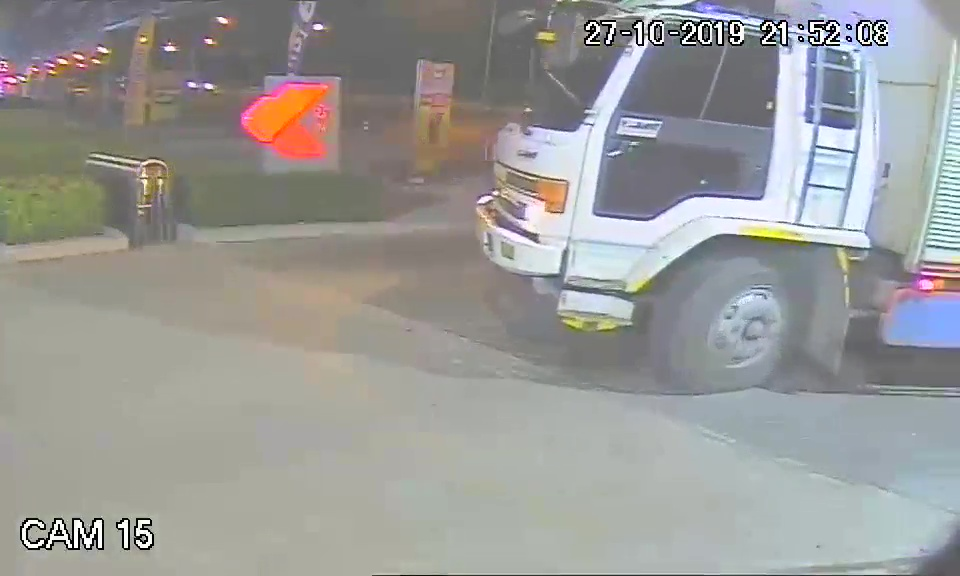truck: (468, 4, 870, 396)
